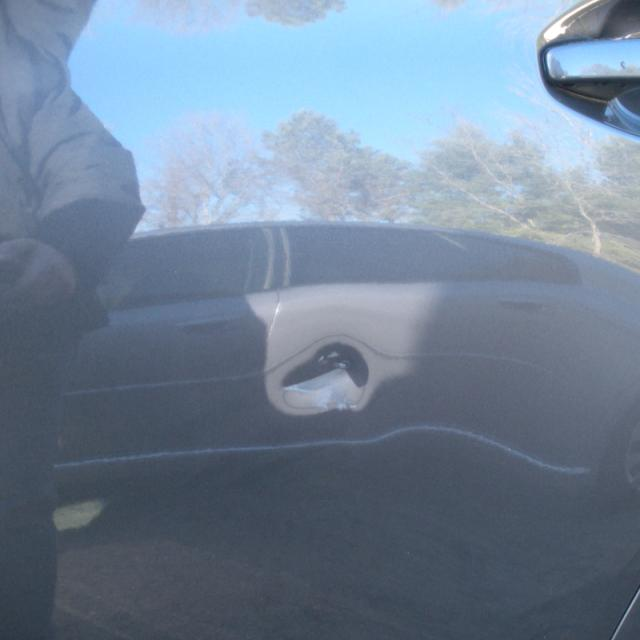dents: (229, 316, 423, 445)
